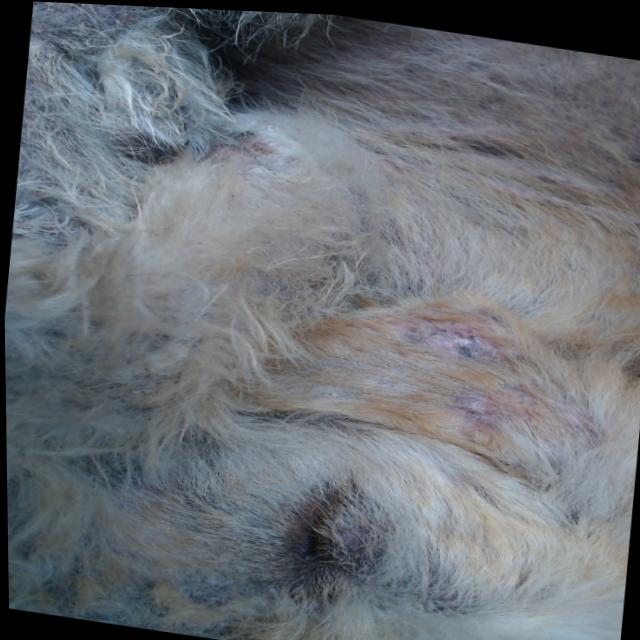demodicosis: (413, 309, 527, 373), (213, 120, 288, 190), (436, 389, 512, 430)
